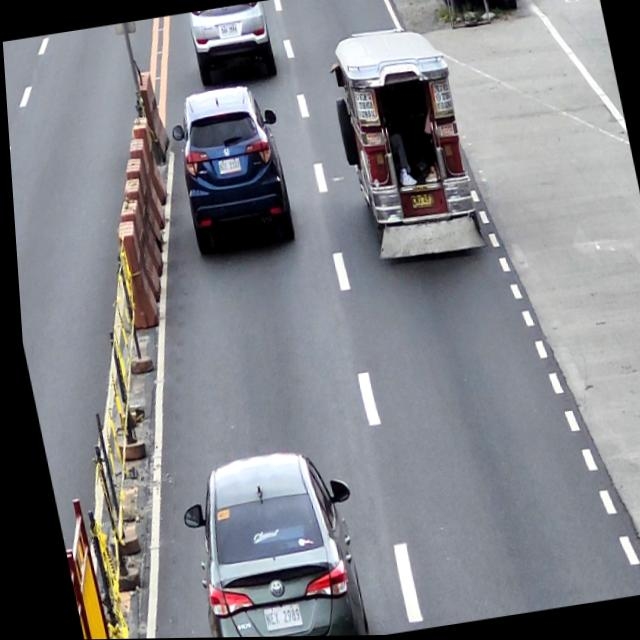Car: (165, 440, 372, 638), (163, 81, 300, 260), (185, 2, 278, 90)
Jeep: (319, 21, 485, 271)
License-Plate: (255, 602, 295, 633), (214, 157, 240, 176), (407, 194, 430, 211), (218, 22, 238, 38)
